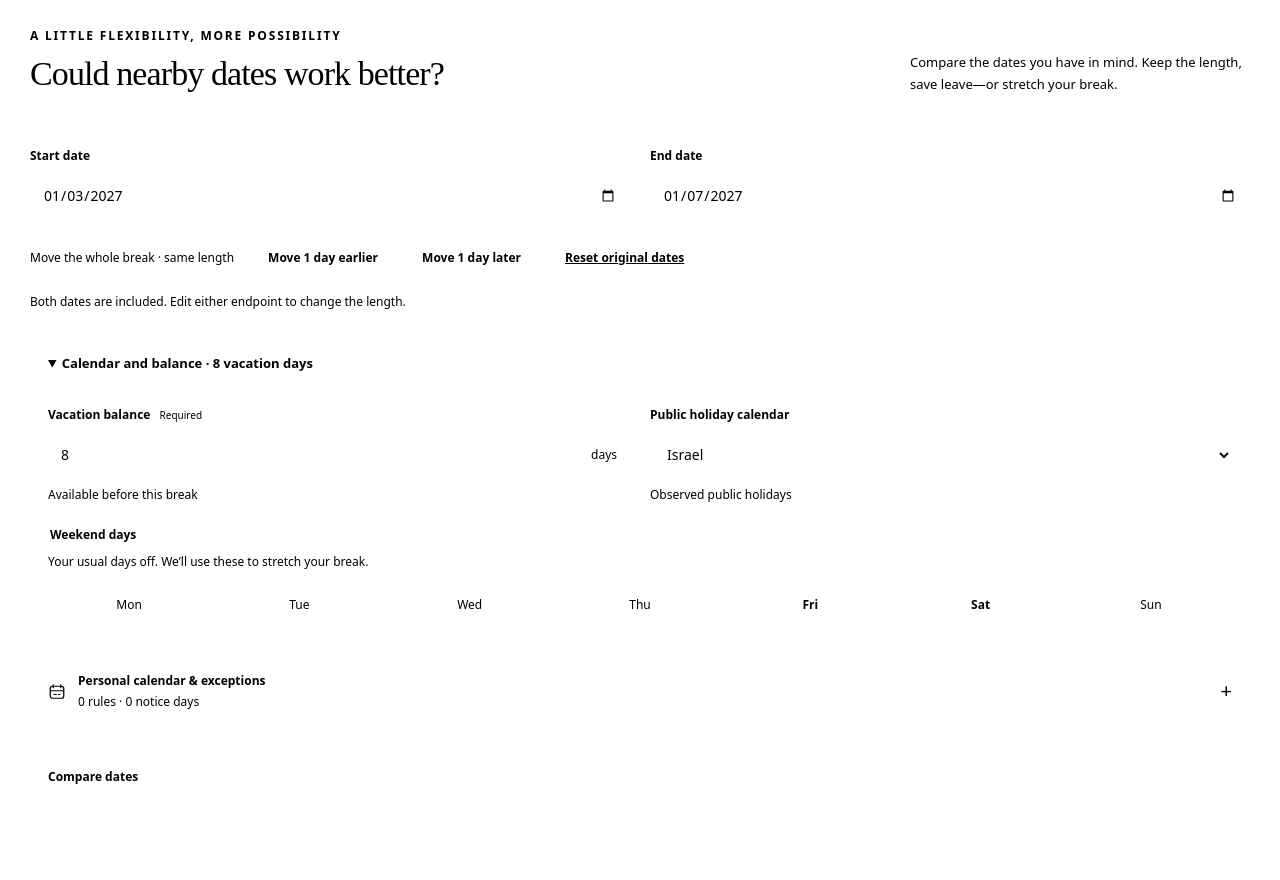
Test case: no improvement explains the limit and an over-budget baseline remains visible
(page scrolled)
Step 1. Click the button "Compare dates" → (93, 777), box [30,754,156,800]
(page scrolled)
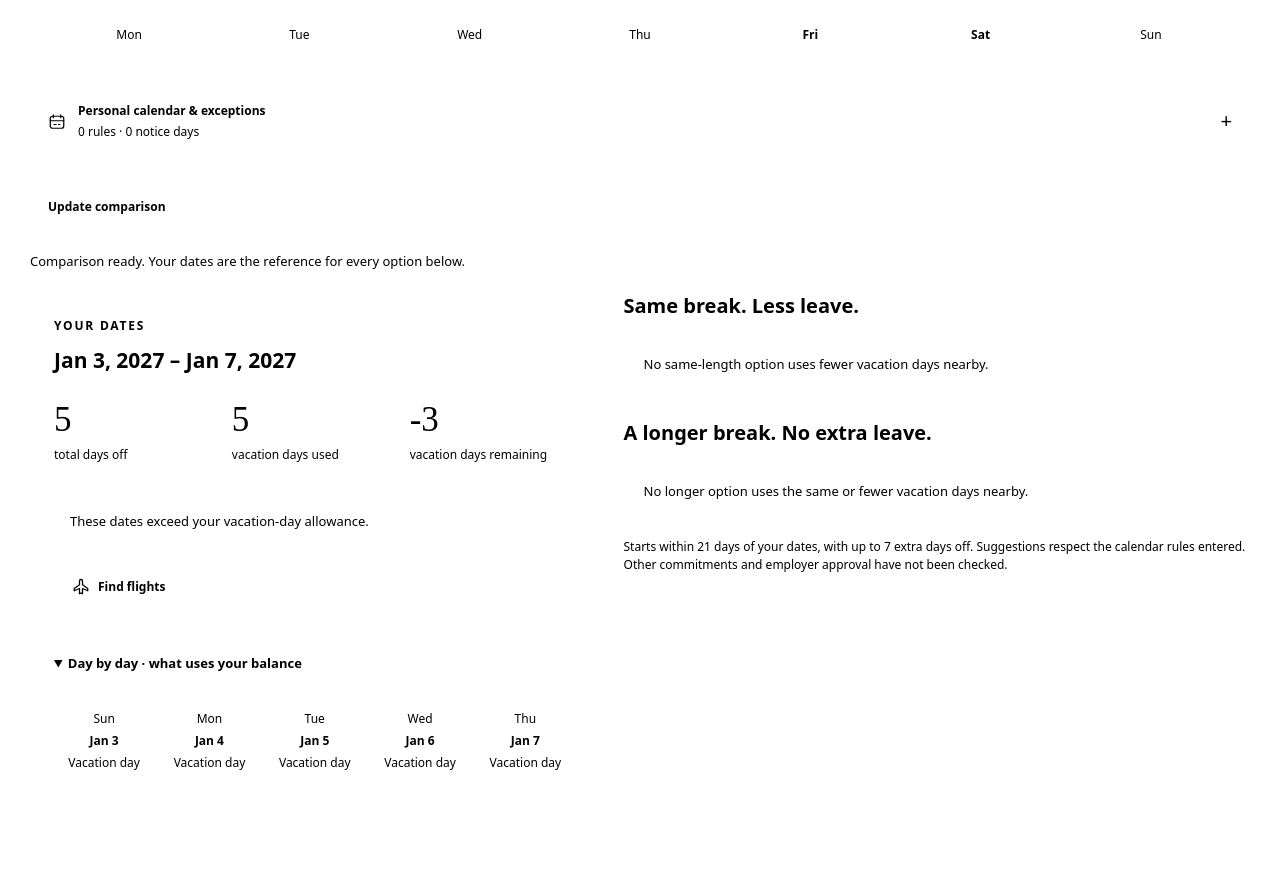
Now the text "These dates exceed your vacation-day allowance." is shown, box [70,512,369,530]
Now the text "No same-length option uses fewer vacation days nearby." is shown, box [644,355,988,373]
Now the text "No longer option uses the same or fewer vacation days nearby." is shown, box [644,482,1028,500]
